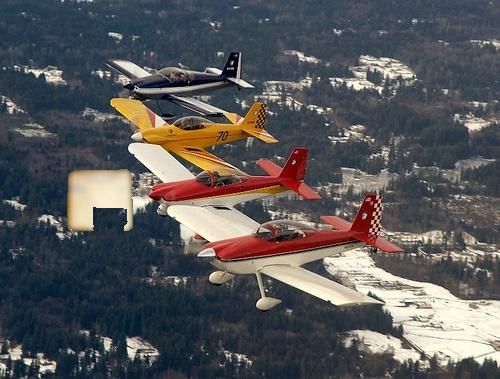tampered: (68, 170, 133, 231)
